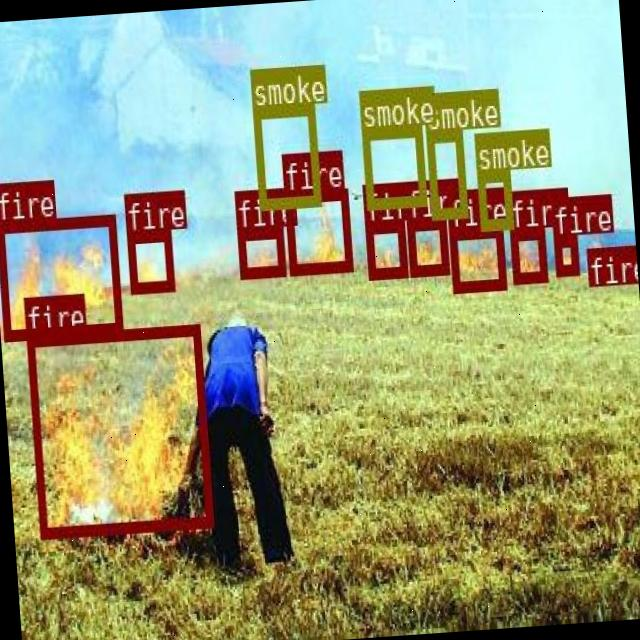fire: (25, 323, 213, 538), (0, 213, 121, 339), (282, 187, 350, 274), (448, 225, 505, 290), (126, 227, 174, 290), (363, 219, 405, 278), (404, 217, 448, 273), (237, 226, 284, 276), (509, 226, 546, 282), (552, 234, 578, 273), (584, 248, 600, 272)
smoke: (252, 103, 320, 207), (361, 125, 425, 208), (425, 129, 465, 218), (476, 168, 511, 228)
